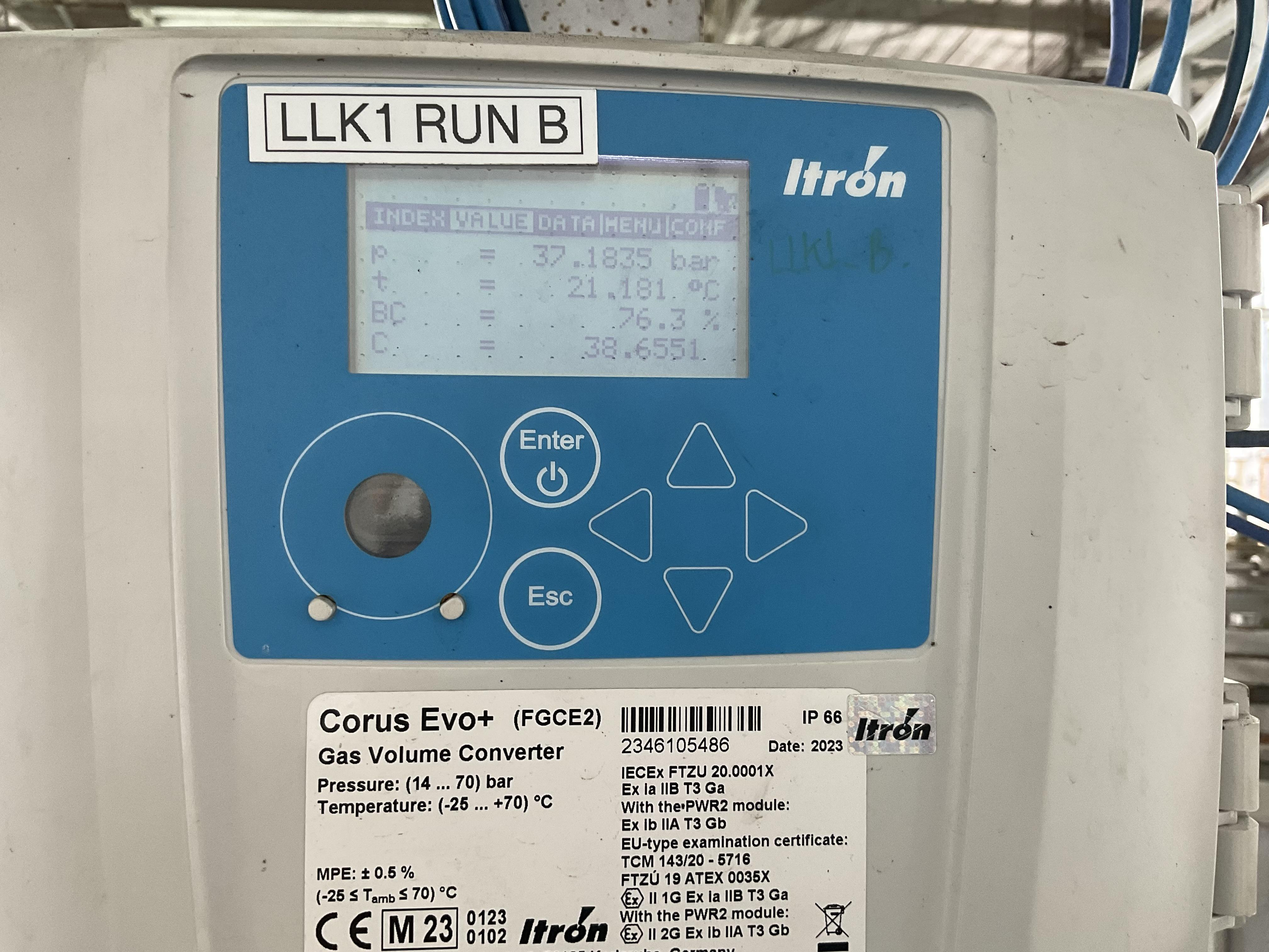digital_screen: (344, 150, 752, 377)
